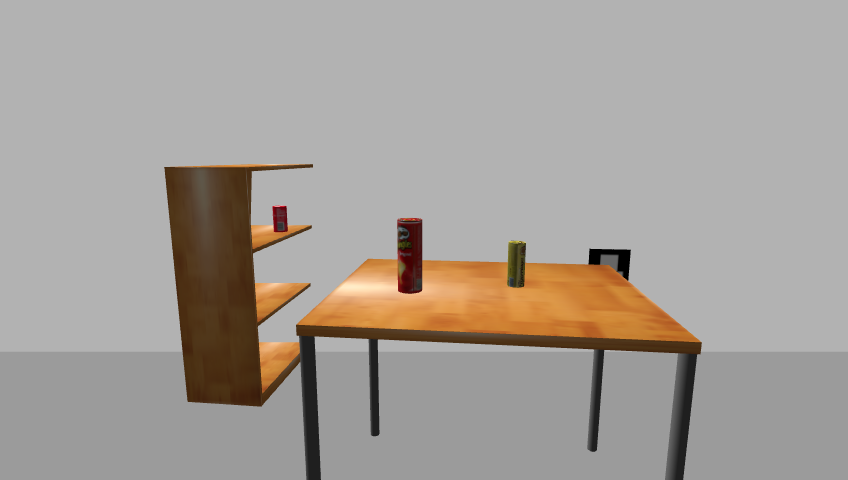aruco marker: (585, 247, 634, 284)
biscuits pack: (507, 241, 527, 289)
bookshelf: (160, 160, 318, 409)
coke can: (270, 205, 289, 233)
dinner table: (292, 258, 711, 479)
pringles can: (395, 217, 424, 296)
